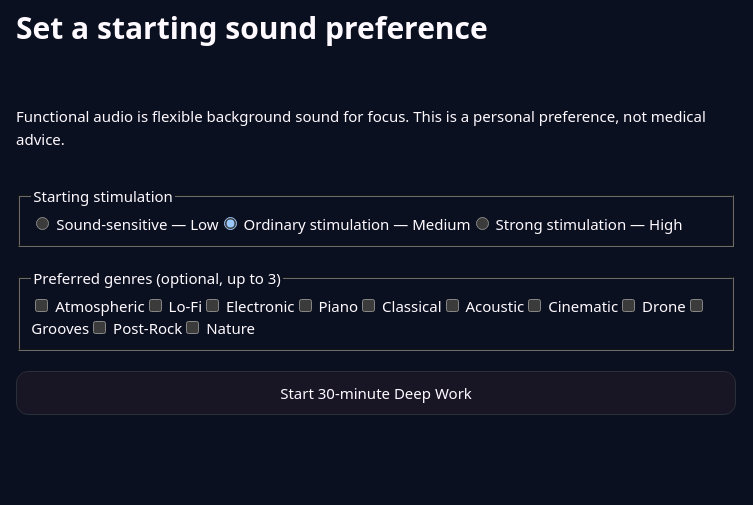
keeps the form available for retry when completion fails
This screenshot has width=753, height=505.
Click the button "Start 30-minute Deep Work" at (376, 393), box x1=16 y1=371 x2=736 y2=415
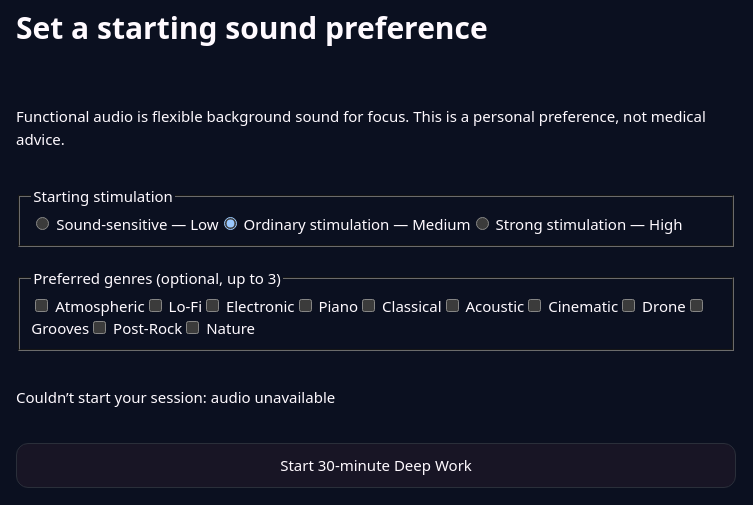
Check: the button "Start 30-minute Deep Work" is enabled, box x1=16 y1=443 x2=736 y2=488
Check: the message shows "audio unavailable", box x1=211 y1=387 x2=335 y2=407
